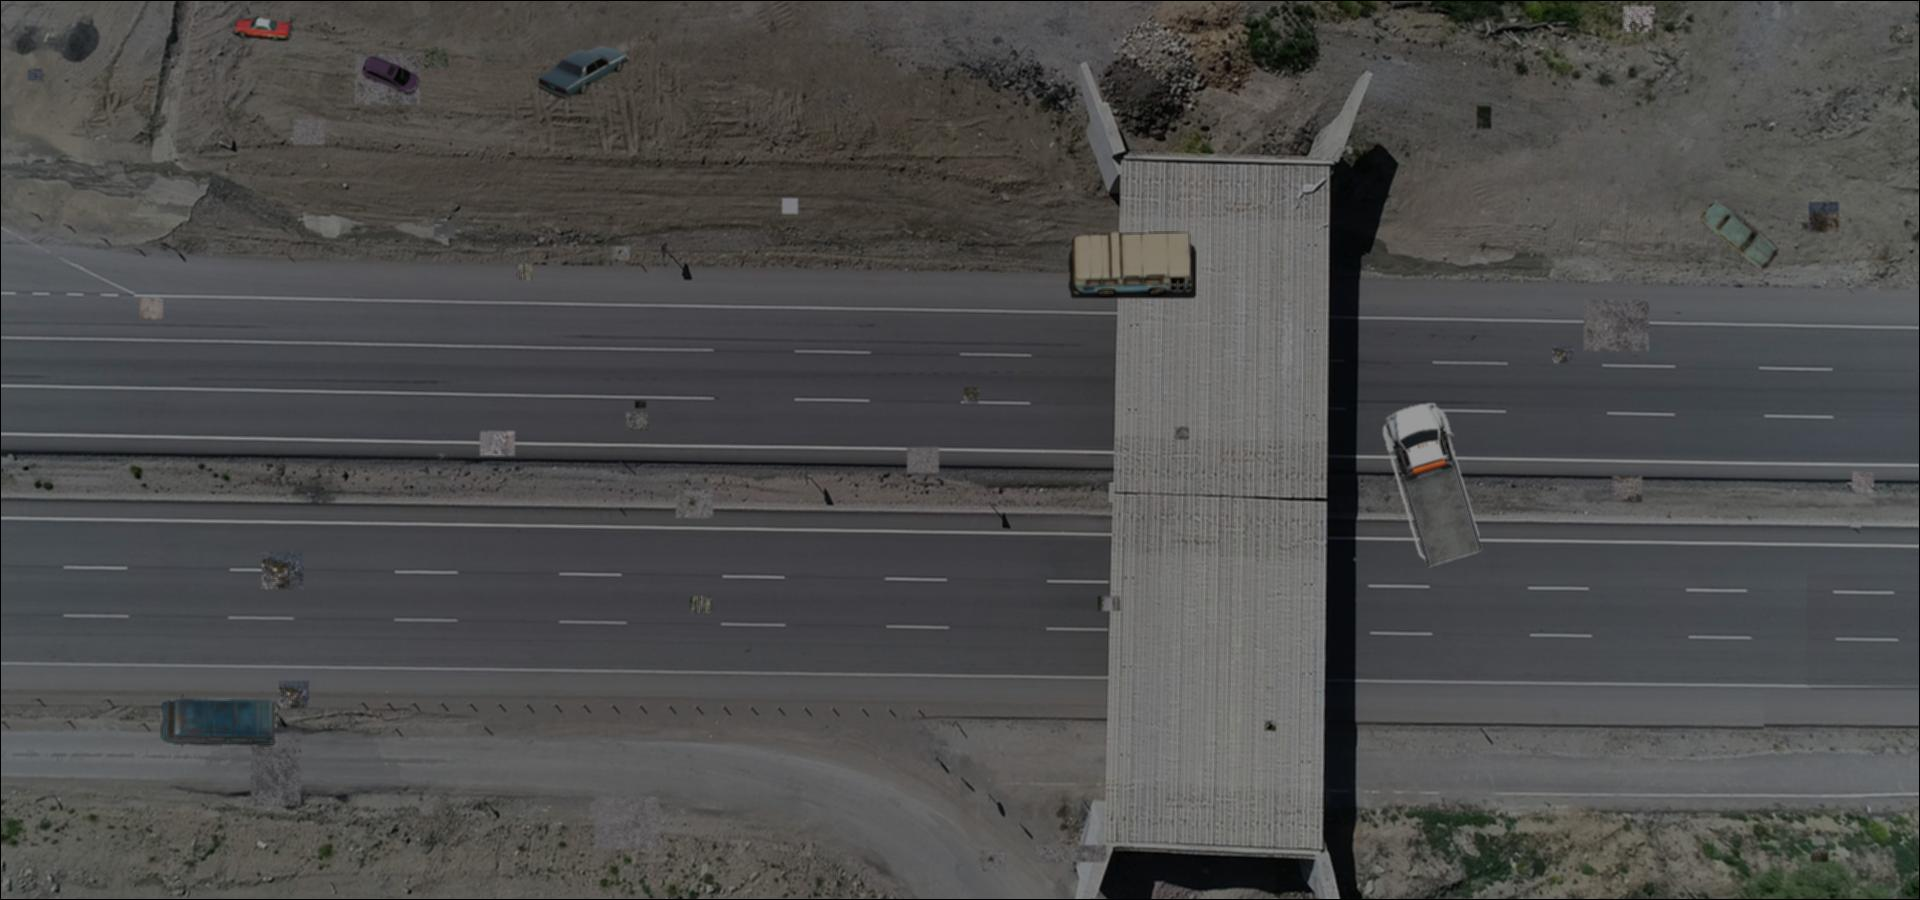arac: (1381, 400, 1487, 568), (1065, 231, 1196, 298), (157, 694, 279, 749), (1697, 193, 1780, 269), (533, 45, 629, 99), (361, 54, 420, 97), (233, 18, 294, 40)
